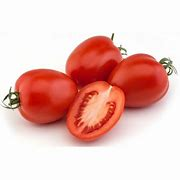tomato: (102, 42, 169, 106), (12, 67, 68, 123), (64, 30, 118, 87)
